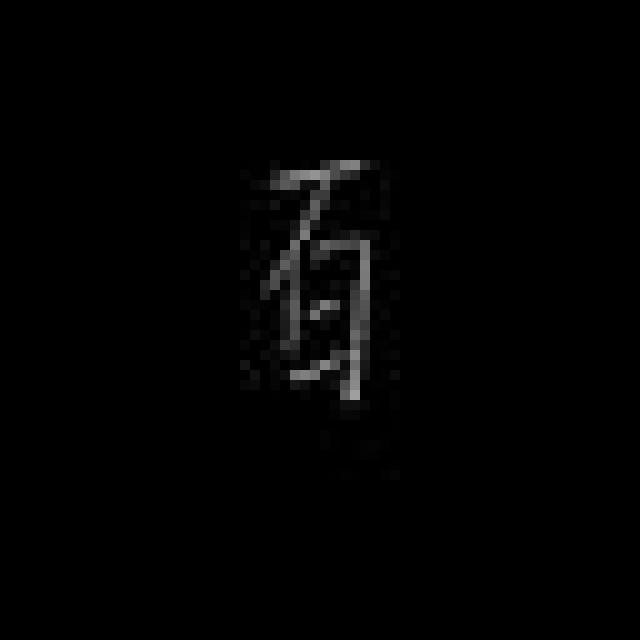100 -a hundred-: (257, 147, 379, 420)
